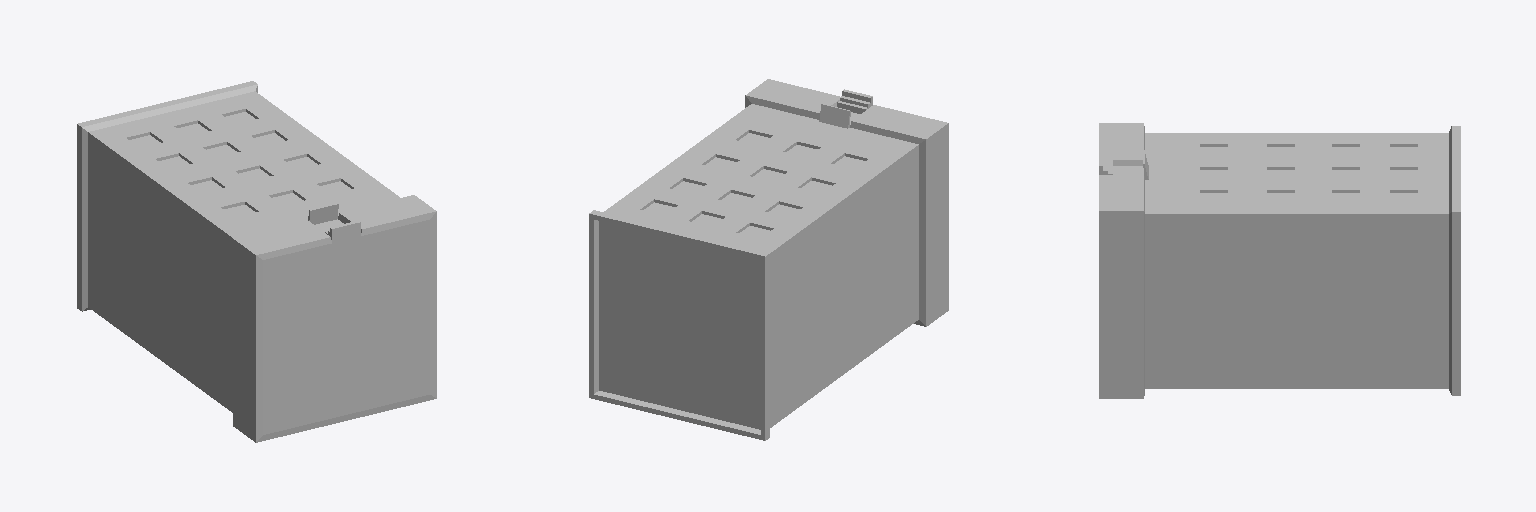
File: buildings-village-01.obj
3 views of the same model, side by side, from view 1: azimuth 30°, elevation 25°; view 2: azimuth 150°, elevation 25°; view 3: azimuth 270°, elevation 25° (orthographic).
Visible parts, largest first — view 1: buildings-village-01_Cube.062; view 2: buildings-village-01_Cube.062; view 3: buildings-village-01_Cube.062.
Boxes of the visible parts, x1,y1,x2,y2 form: buildings-village-01_Cube.062: [77, 81, 436, 442]; buildings-village-01_Cube.062: [589, 79, 948, 440]; buildings-village-01_Cube.062: [1099, 123, 1460, 398].
Bounding box in the file's own units: 5.21 × 5.43 × 9.05.